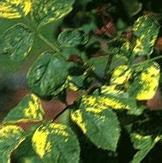Tomato leaf mosaic virus: (70, 102, 118, 154), (26, 52, 68, 96), (36, 124, 79, 163), (130, 14, 162, 59), (2, 22, 36, 64), (30, 0, 79, 27), (55, 29, 89, 50)
